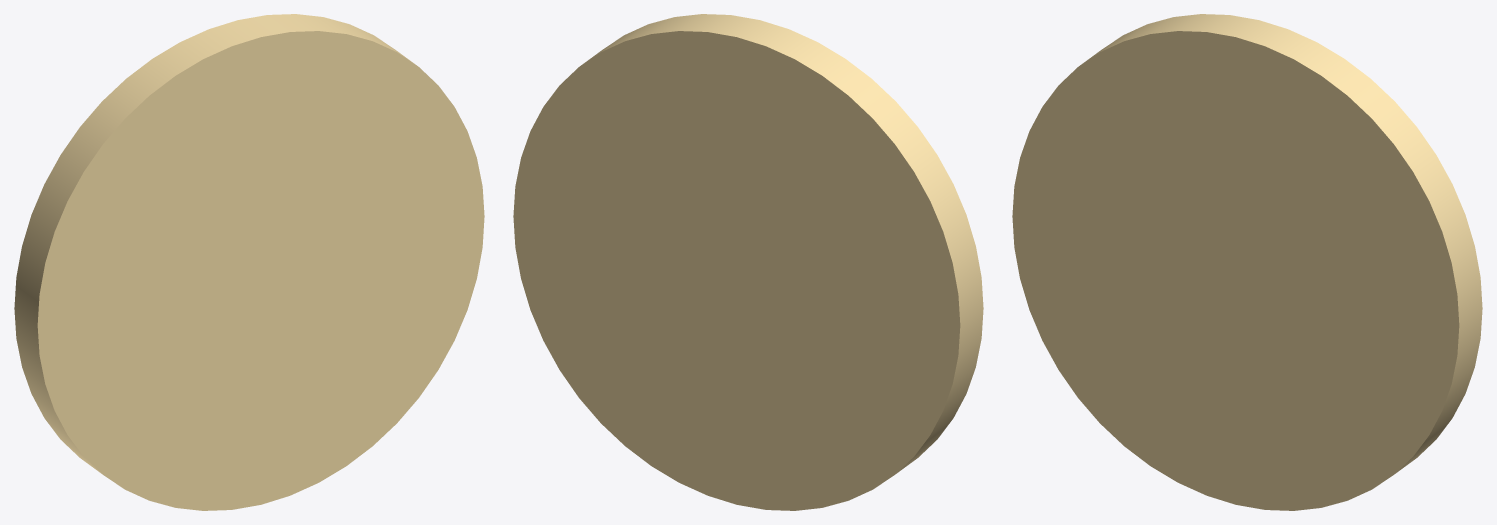
The model's file is badge_one_eye_symbol.glb.
3 renders of one model, left to right at view 1: azimuth 30°, elevation 25°; view 2: azimuth 150°, elevation 25°; view 3: azimuth 330°, elevation 25°, orthographic.
Visible parts, largest first — view 1: badge; view 2: badge; view 3: badge.
Part boxes in pixels (x1,y1,x2,y2): badge: (14,14,484,510); badge: (513,14,983,510); badge: (1012,14,1482,510).
Bounding box in the file's own units: 2 × 2 × 0.18.
